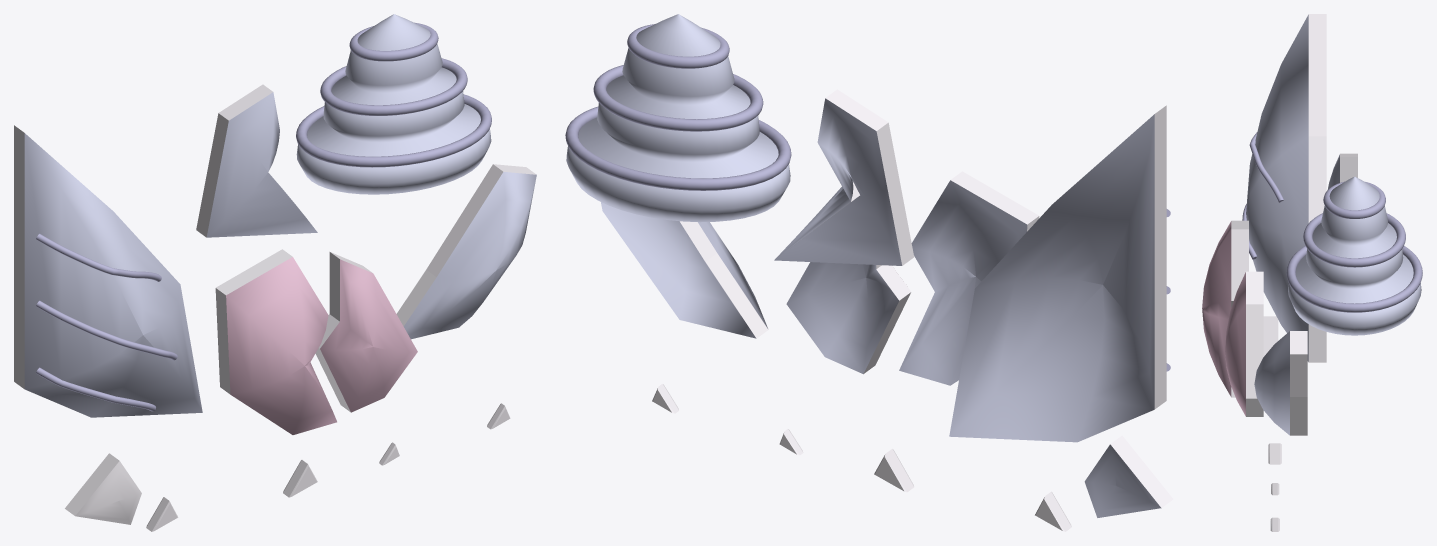
Rendered from conch_debris.glb.
3 renders of one model, left to right at view 1: azimuth 30°, elevation 25°; view 2: azimuth 150°, elevation 25°; view 3: azimuth 270°, elevation 25°, orthographic. The views are drawn at different scales.
Size of the model in its own units: 23 by 18 by 10.33.
